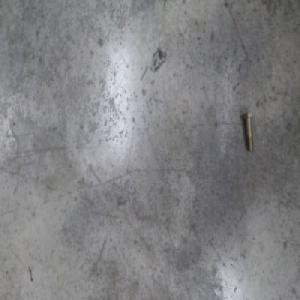Bolt: (241, 110, 253, 152)
